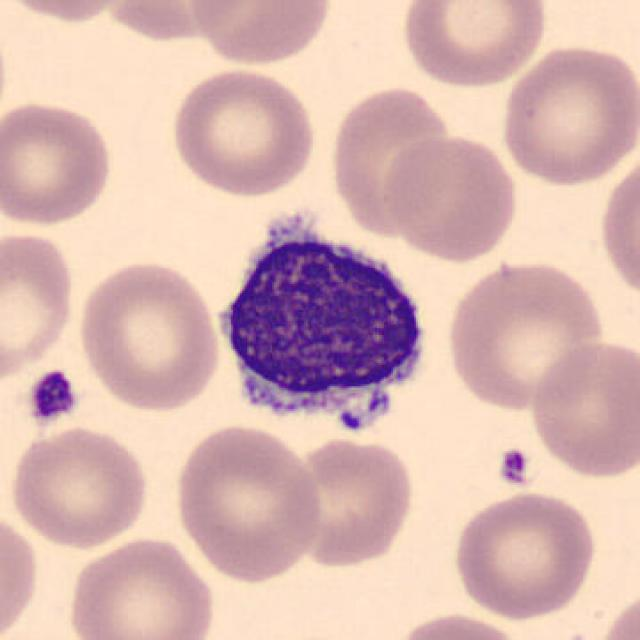Lymphocyte: (202, 205, 442, 446)
Platelets: (25, 368, 80, 425), (494, 444, 534, 488)
RBC: (441, 256, 610, 414), (169, 422, 325, 584), (73, 256, 224, 414), (324, 79, 455, 240), (448, 487, 601, 622), (498, 41, 636, 190), (167, 65, 320, 199), (380, 130, 521, 264), (7, 421, 153, 550), (281, 434, 418, 571), (62, 534, 219, 640), (526, 335, 638, 481), (0, 97, 117, 229), (398, 0, 553, 90), (0, 226, 78, 384), (188, 0, 336, 67), (595, 144, 640, 308), (99, 0, 252, 42), (0, 506, 41, 640), (388, 610, 530, 640), (0, 0, 146, 26), (594, 585, 638, 640)
